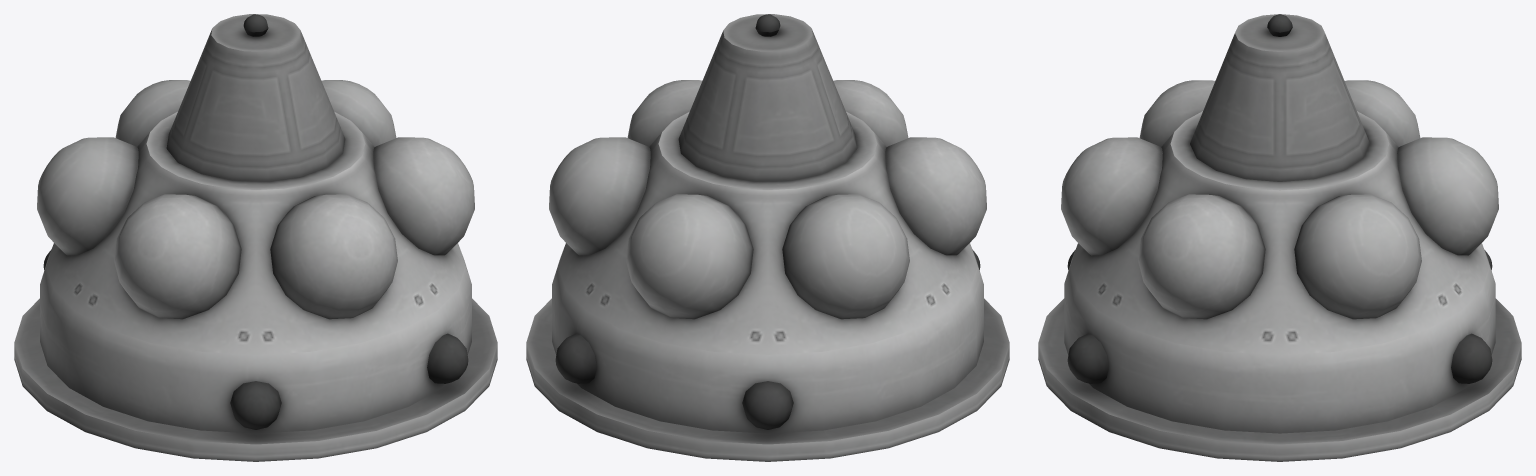
Rendered from petra_docking_port_s0p5_1_male.obj.
The picture shows the model from 3 angles, left to right: view 1: azimuth 30°, elevation 25°; view 2: azimuth 150°, elevation 25°; view 3: azimuth 270°, elevation 25°; orthographic projection.
Visible parts, largest first — view 1: mesh; view 2: mesh; view 3: mesh.
Boxes of the visible parts, x1,y1,x2,y2 form: mesh: (14,14,497,461); mesh: (526,14,1009,461); mesh: (1038,14,1521,461).
Bounding box in the file's own units: 0.9375 × 0.7375 × 0.9375.
Materials: 1 (1 with a texture image).
